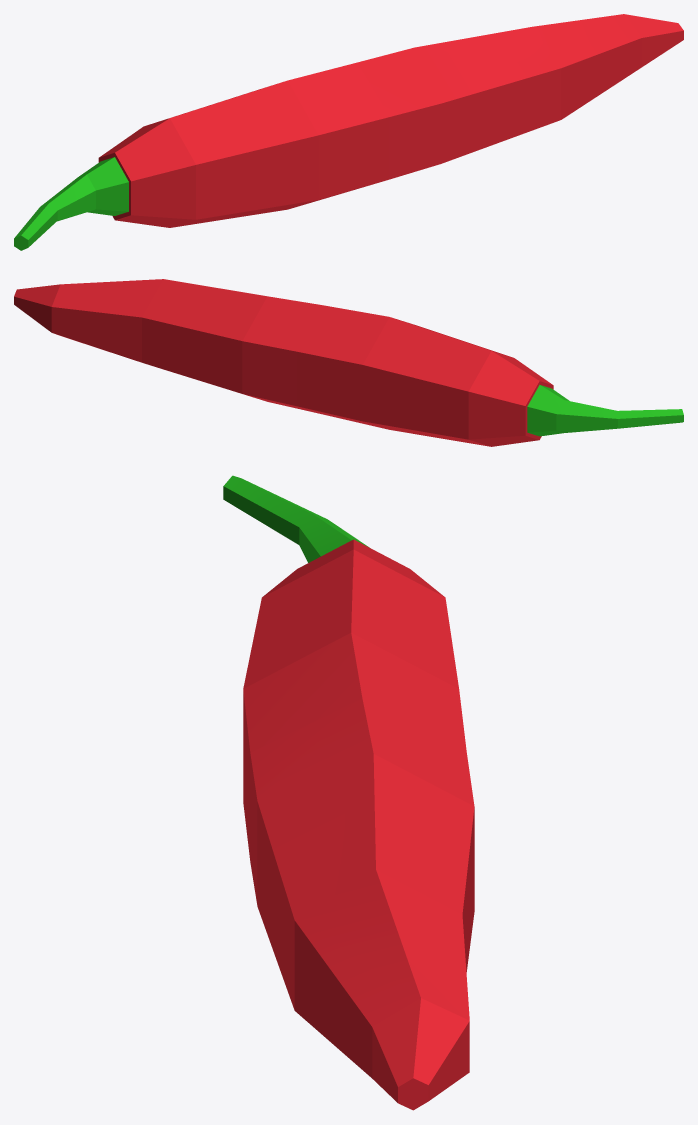
The model's file is Chilli.fbx.
3 renders of one model, top to bottom at view 1: azimuth 30°, elevation 25°; view 2: azimuth 150°, elevation 25°; view 3: azimuth 270°, elevation 25°, orthographic. The views are drawn at different scales.
Visible parts, largest first — view 1: Chilli; view 2: Chilli; view 3: Chilli.
Boxes of the visible parts, bbox=[...] form: Chilli: bbox=[14, 14, 683, 250]; Chilli: bbox=[14, 279, 683, 446]; Chilli: bbox=[223, 475, 474, 1110].
Size of the model in its own units: 489 by 84.39 by 84.96.
